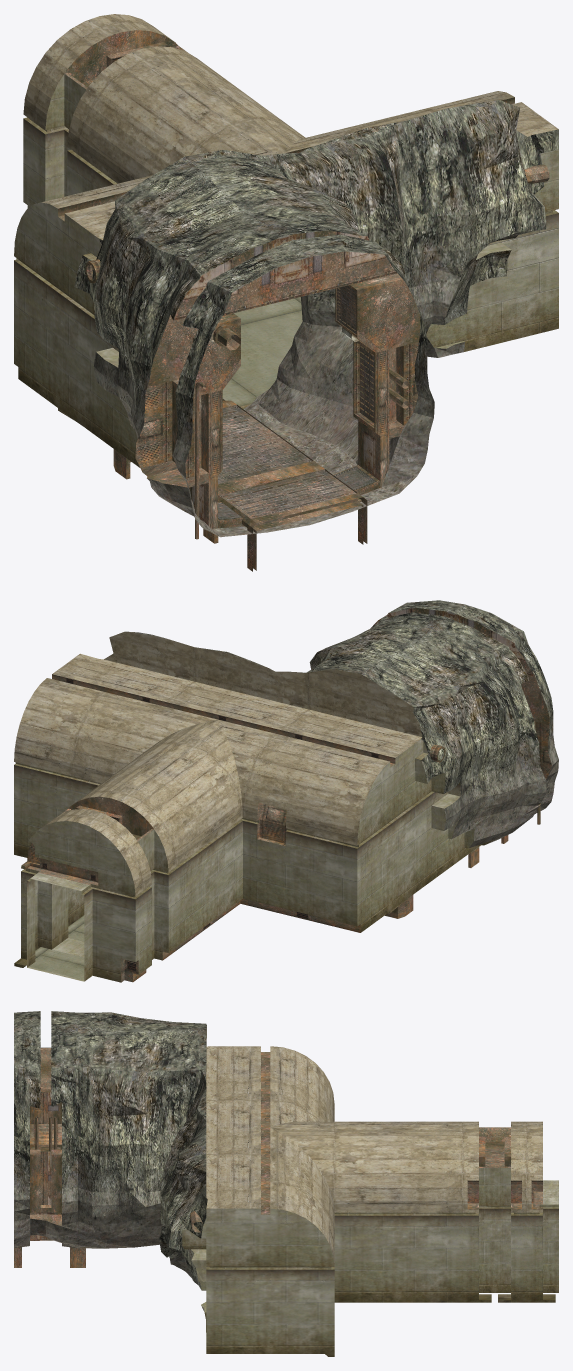
The model's file is poi_all_bunker_mad_bio_s01_r31_transition7_mesh_r31.fbx.
3 renders of one model, top to bottom at view 1: azimuth 30°, elevation 25°; view 2: azimuth 150°, elevation 25°; view 3: azimuth 270°, elevation 25°, orthographic. The views are drawn at different scales.
Parts seen in each view (by area): view 1: mesh_node; view 2: mesh_node; view 3: mesh_node.
Part boxes in pixels (left/top/right/bottom): mesh_node: left=14, top=14, right=558, bottom=571; mesh_node: left=14, top=600, right=558, bottom=982; mesh_node: left=14, top=1011, right=558, bottom=1356.
Size of the model in its own units: 13.72 by 7.64 by 17.
